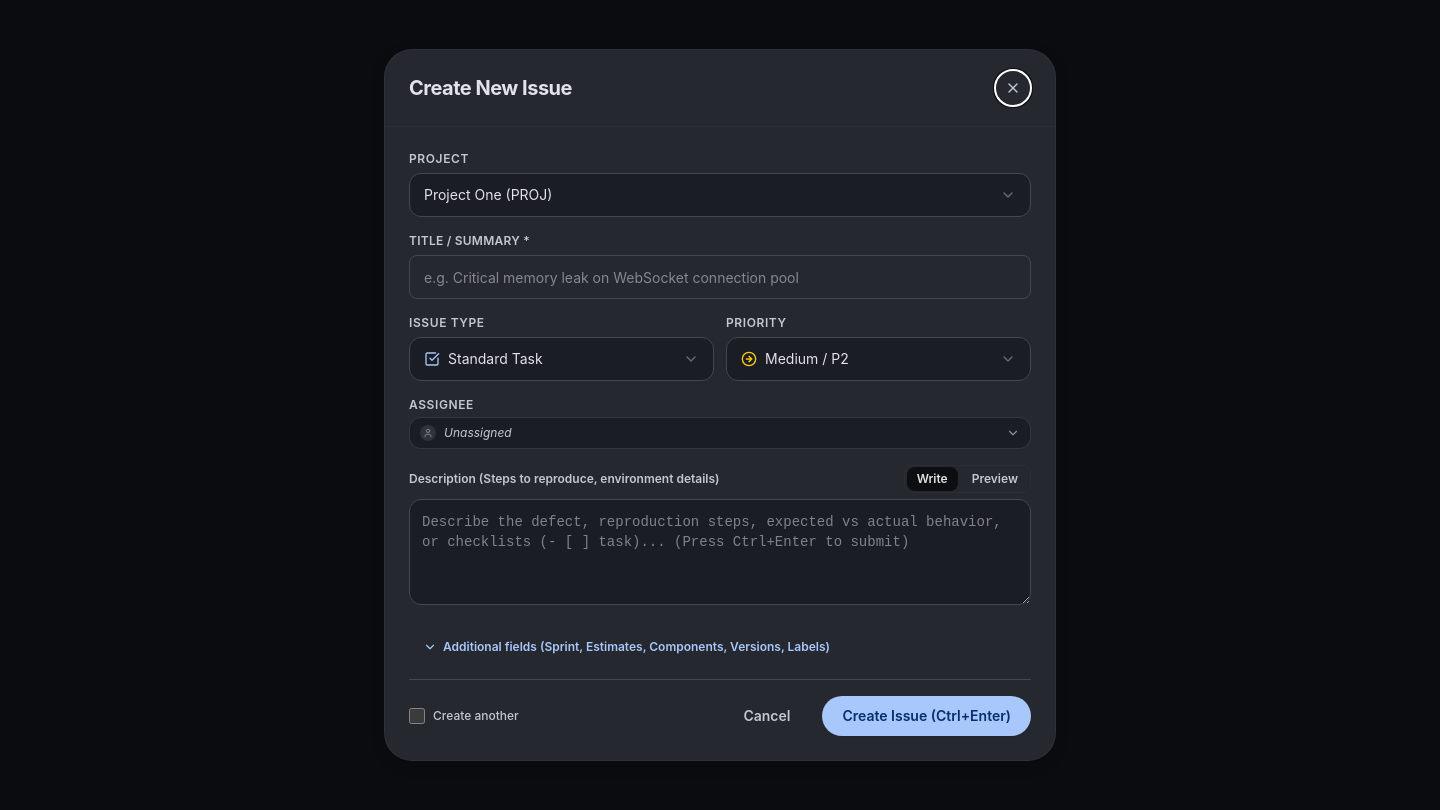
IssueModal Progressive Disclosure & UX › toggles markdown Write and Preview tabs
Check: the tab "Write" is shown, box top-left (907, 467), bottom-right (958, 491)
// Click preview tab
What coordinates should you click on to do the following:
click the tab "Preview"
I would click on:
 (995, 479)
Its box is top-left (962, 467), bottom-right (1028, 491).
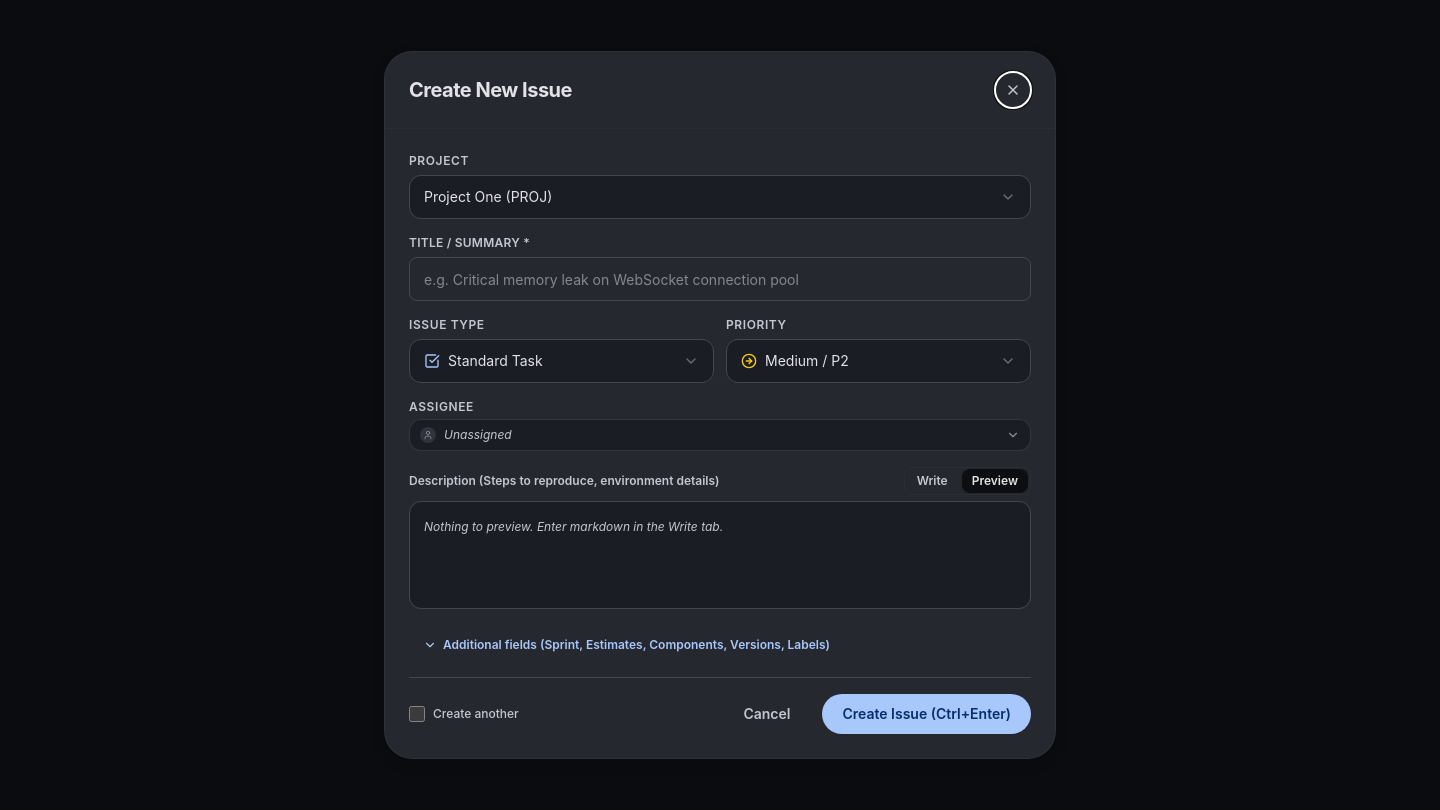
Check: the text "Nothing to preview. Enter markdown in the Write tab." is shown, box top-left (424, 519), bottom-right (723, 534)
// Click write tab back
What coordinates should you click on to do the following:
click the tab "Write"
I would click on:
 (932, 481)
Its box is top-left (907, 469), bottom-right (958, 493).
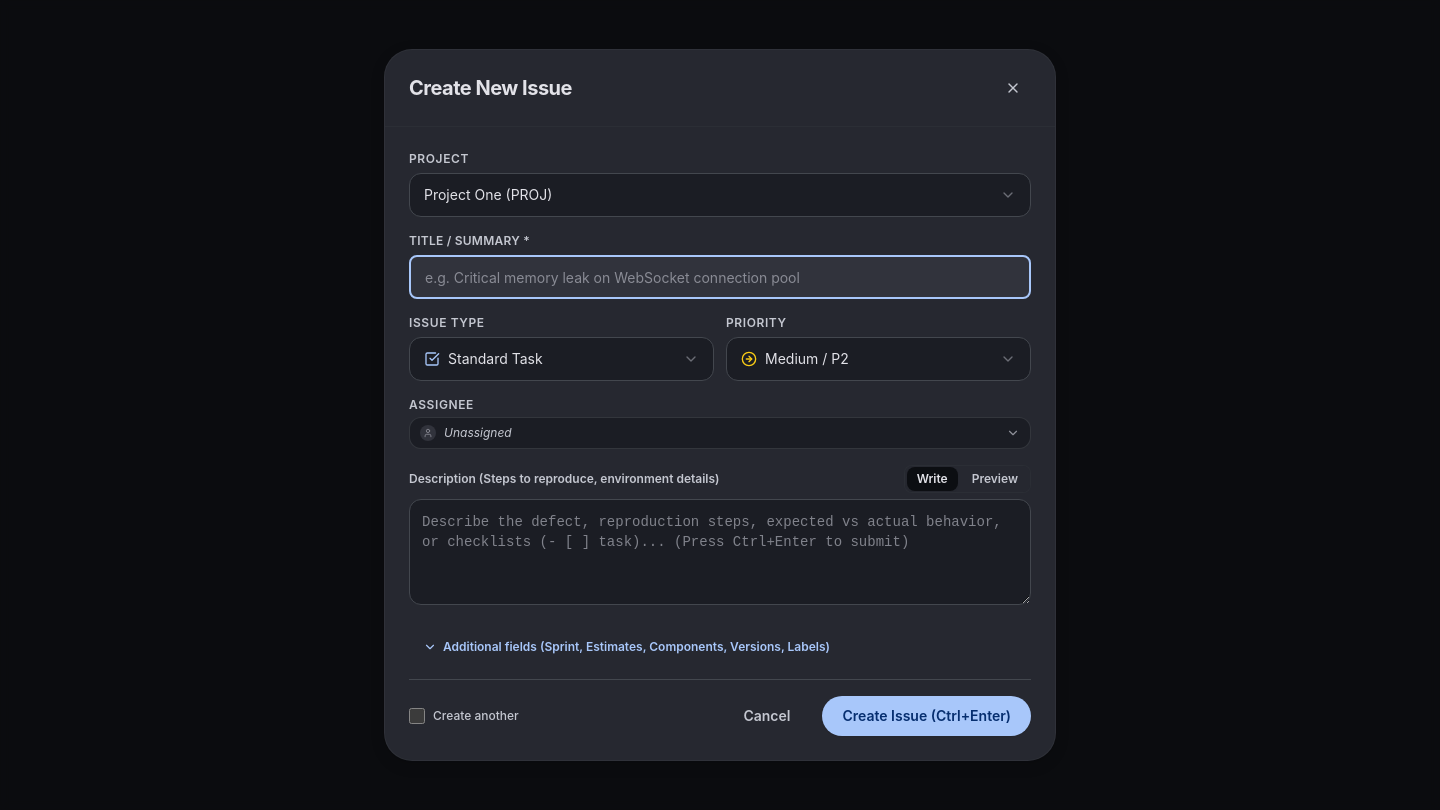
Check: the text box with placeholder "Describe the defect" is shown, box top-left (409, 499), bottom-right (1031, 605)
